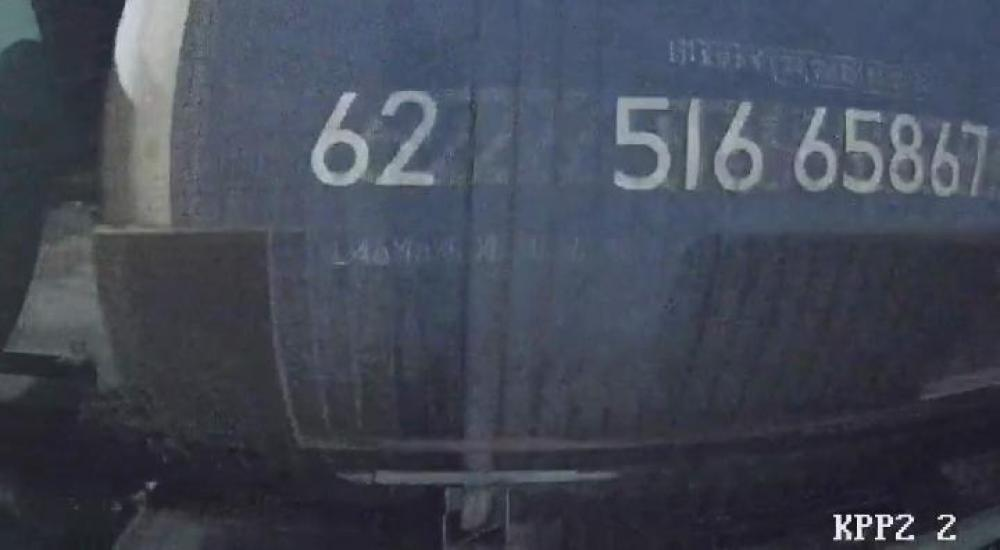Wagon-number: (605, 89, 993, 211)
